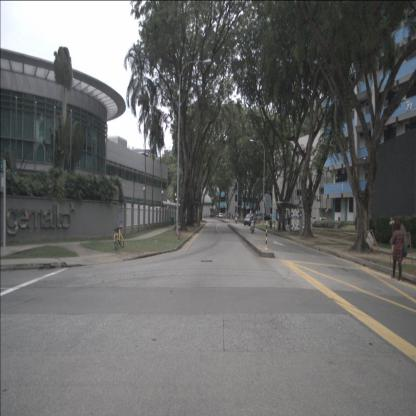human-pedestrian-adult: (390, 220, 407, 282), (286, 215, 290, 234)
vehicle-bicycle: (114, 220, 124, 250), (177, 219, 182, 240)
vehicle-car: (244, 214, 256, 226), (261, 214, 271, 222), (317, 218, 326, 226), (258, 213, 266, 221), (253, 214, 261, 221), (268, 214, 274, 221)
vehicle-motorcycle: (250, 214, 255, 233)
